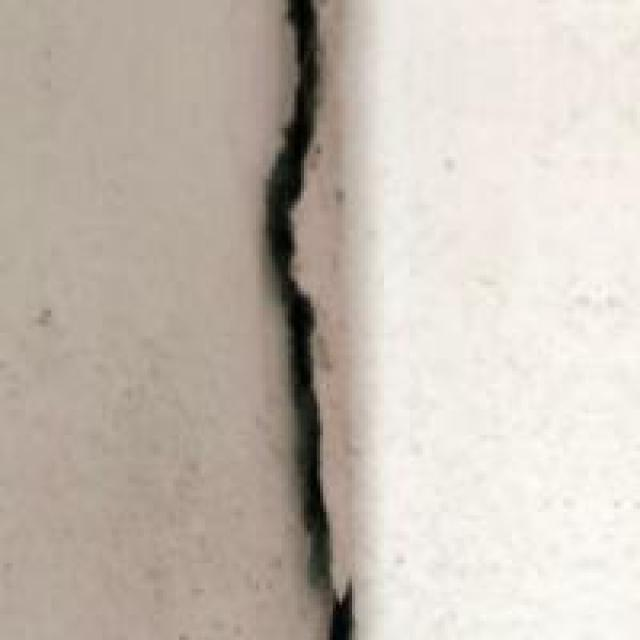Crack: (211, 0, 445, 637)
